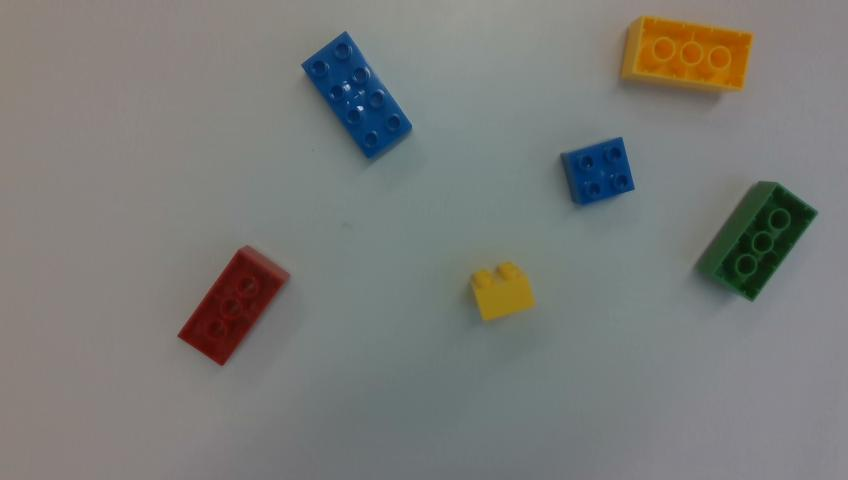2x2_blue: (561, 137, 634, 205)
2x2_yellow: (471, 262, 534, 320)
4x2_blue: (302, 32, 414, 158)
4x2_green: (695, 181, 817, 300)
4x2_red: (178, 242, 288, 364)
4x2_yellow: (621, 16, 753, 92)
